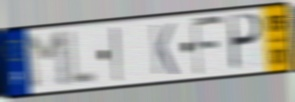F: (190, 14, 226, 78)
I: (110, 25, 124, 84)
K: (149, 22, 179, 77)
L: (66, 27, 98, 88)
M: (23, 29, 73, 93)
P: (230, 12, 264, 73)
